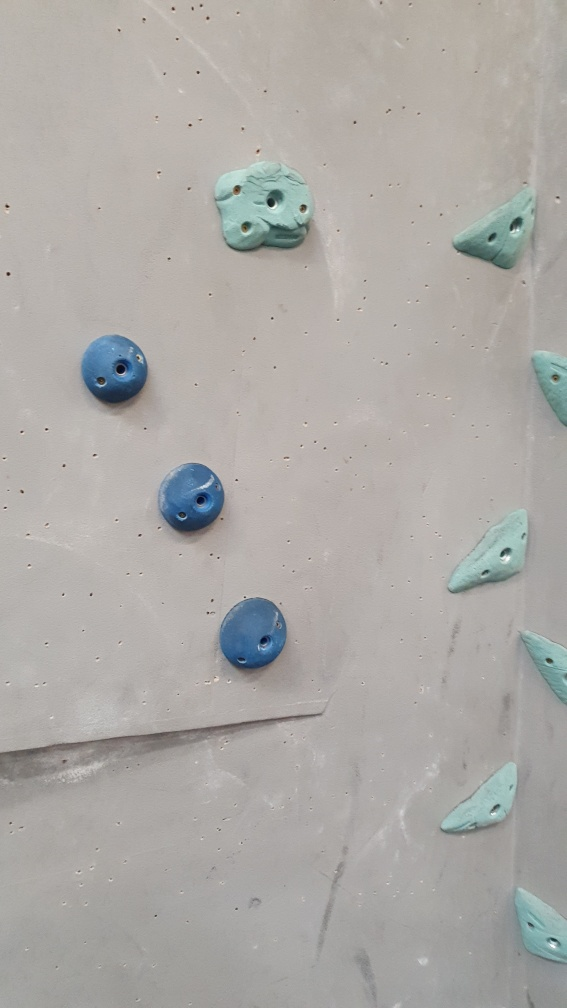Crimp: (445, 187, 540, 273), (447, 503, 531, 599), (438, 754, 522, 839), (510, 609, 567, 710), (504, 882, 567, 968), (523, 342, 567, 427)
Sloper: (213, 586, 290, 675), (77, 327, 156, 409), (150, 461, 231, 536)
